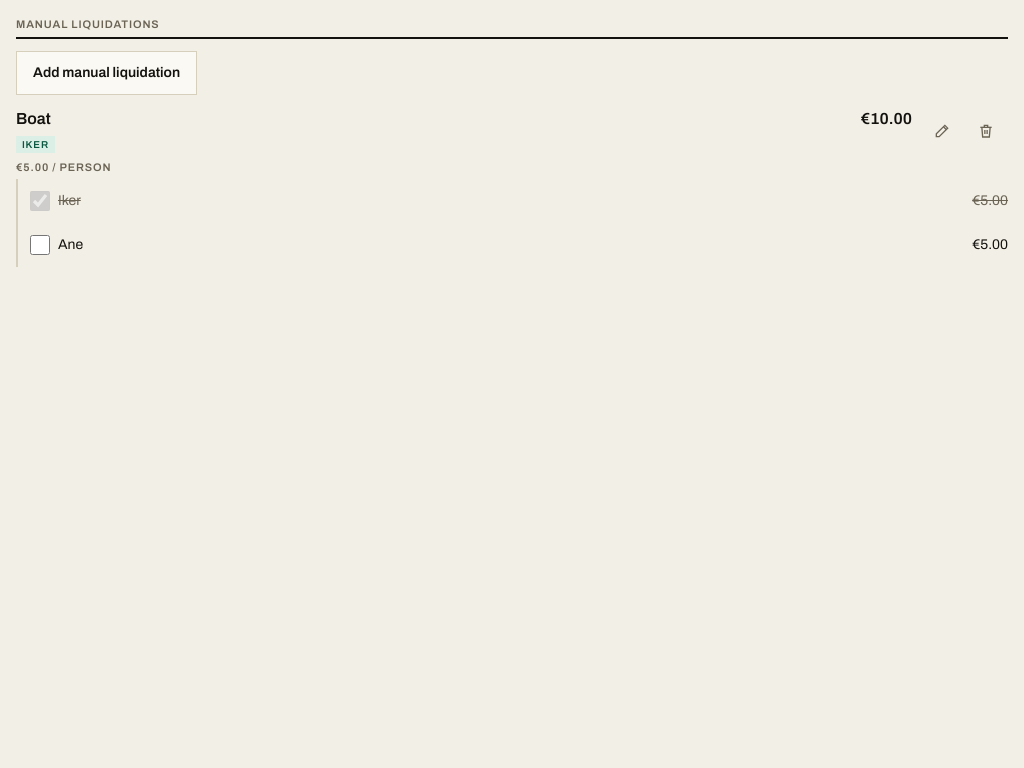
Scenario: ManualLiquidations › edits a liquidation in place, pre-filled
Later steps or results of the test are not shown.
Click the button named "Edit" at (942, 130), box [920, 108, 964, 152]
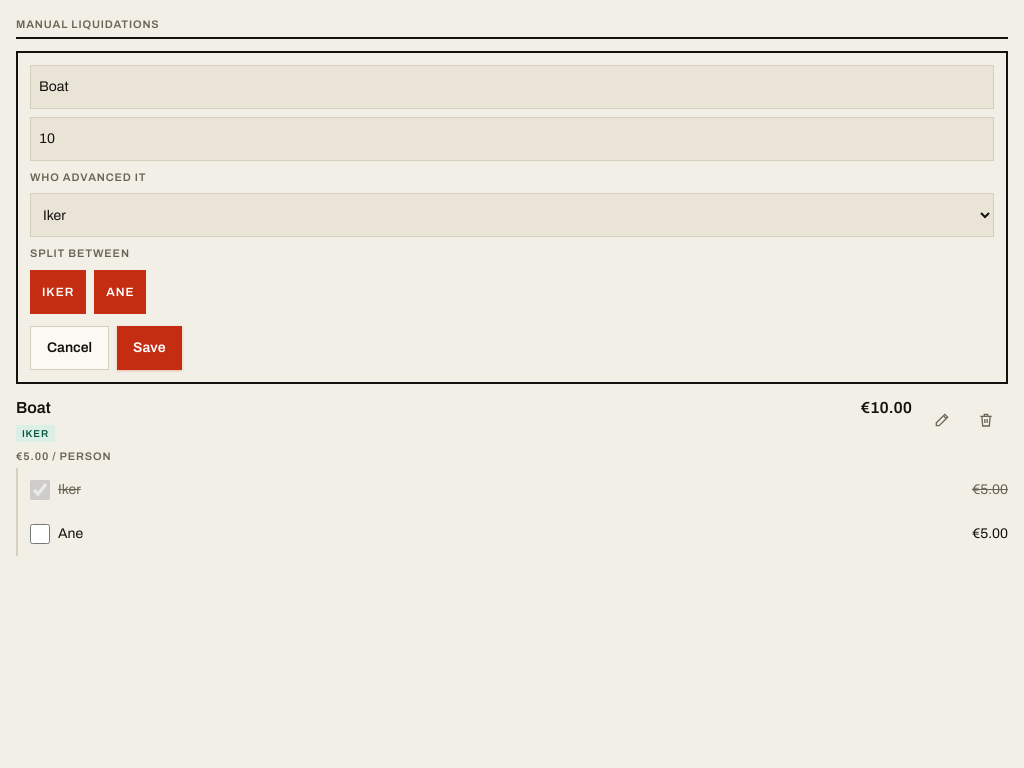
Expected: the number field with placeholder "Amount (€)" holds "10", [30, 116, 994, 160]
